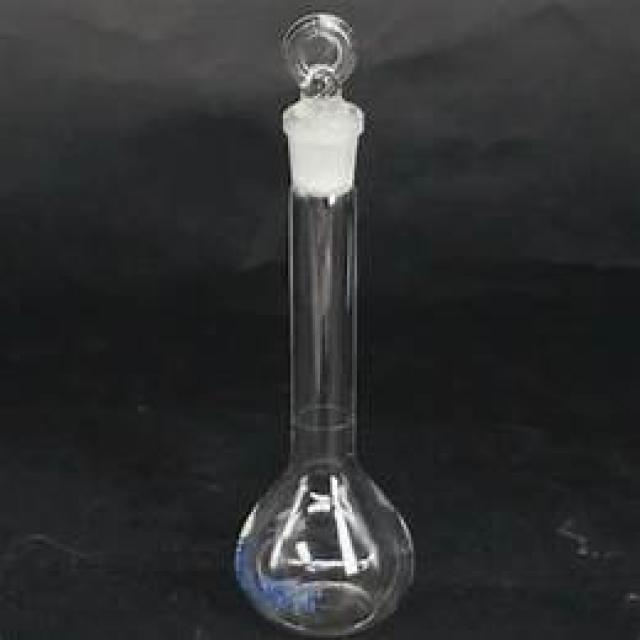Volumetric flask: (216, 11, 422, 632)
